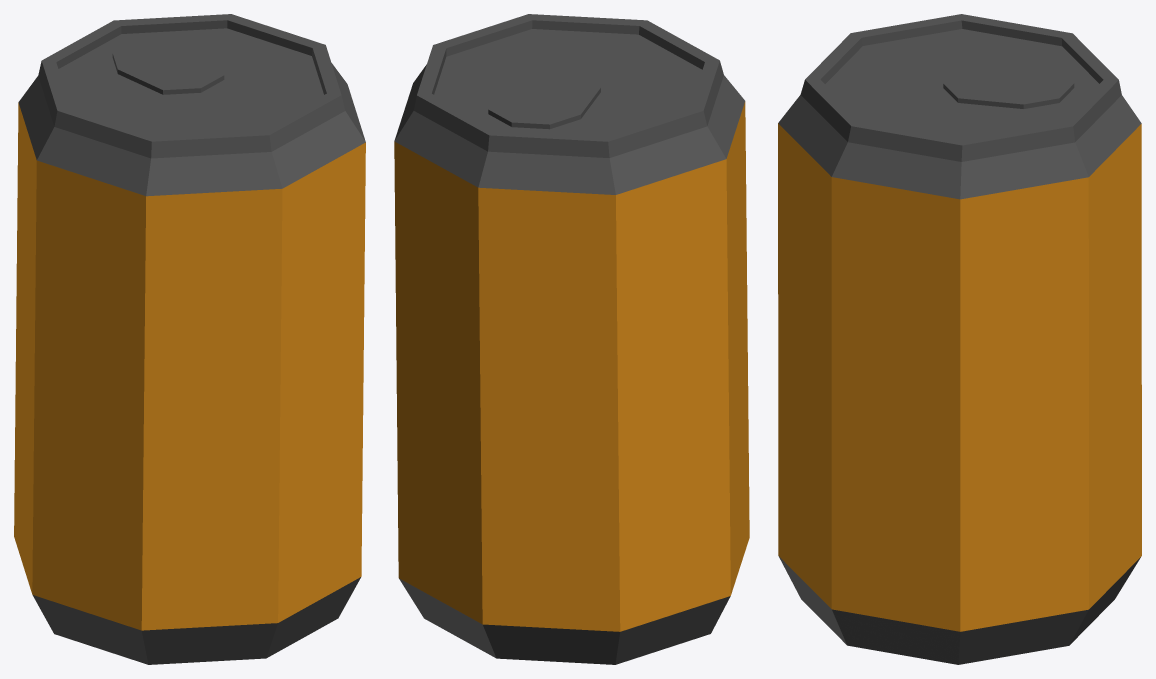
File: Dåse_Orange.fbx
3 renders of one model, left to right at view 1: azimuth 30°, elevation 25°; view 2: azimuth 150°, elevation 25°; view 3: azimuth 270°, elevation 25°, orthographic.
Visible parts, largest first — view 1: Dåse; view 2: Dåse; view 3: Dåse.
Part boxes in pixels (left/top/right/bottom): Dåse: left=14, top=14, right=365, bottom=664; Dåse: left=394, top=14, right=749, bottom=664; Dåse: left=778, top=14, right=1141, bottom=664.
Bounding box in the file's own units: 13.61 × 21.46 × 13.55.
